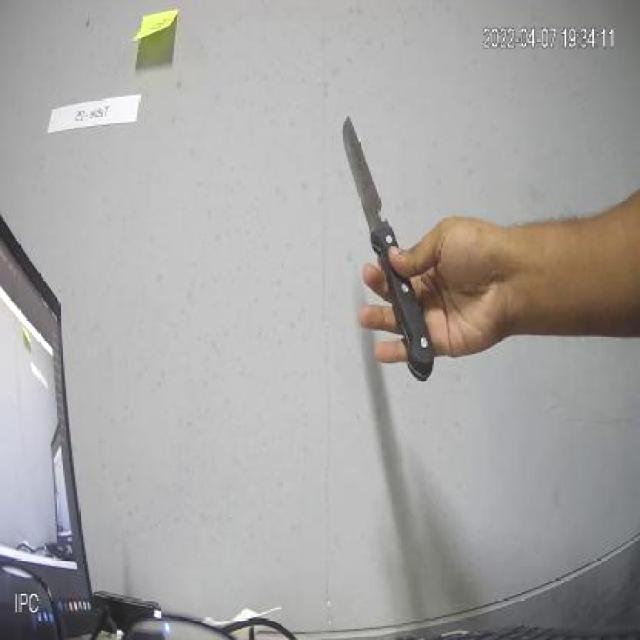knife: (340, 115, 437, 383)
